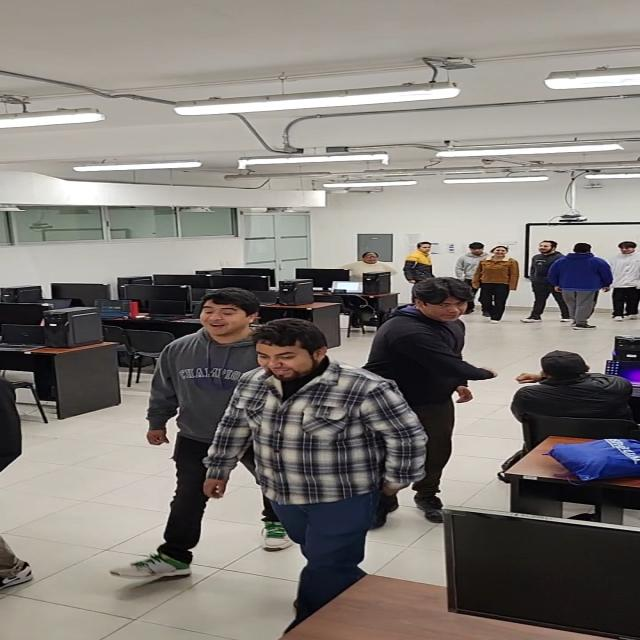Persona: (225, 317, 381, 640), (138, 281, 247, 577), (373, 275, 477, 526), (555, 243, 611, 330), (527, 238, 561, 324), (478, 244, 515, 323), (611, 242, 640, 324)
